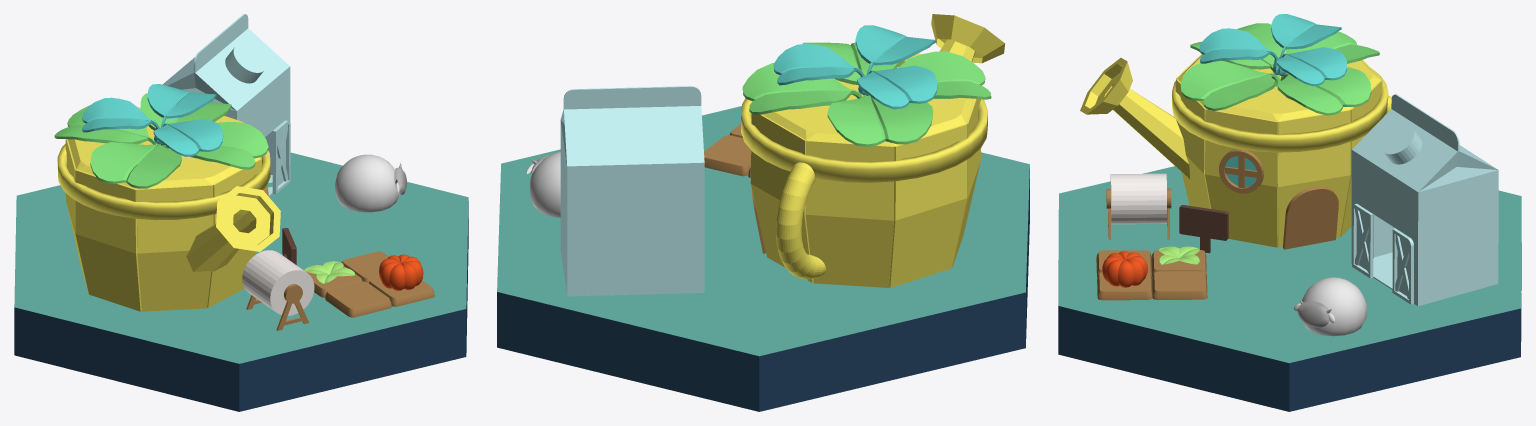
Rendered from Macro - farm barn lv2 WM2.fbx.
The picture shows the model from 3 angles, left to right: view 1: azimuth 30°, elevation 25°; view 2: azimuth 150°, elevation 25°; view 3: azimuth 270°, elevation 25°; orthographic projection. The views are drawn at different scales.
Visible parts, largest first — view 1: Cylinder.154, Cube.020, Milk_Carton_packet.001, Cube.019, Cube.047, Plane.009, Cube.046, Sphere.011, Cylinder, Plane.014, Plane.015, Plane.016 (+7 smaller); view 2: Cylinder.154, Milk_Carton_packet.001, Cube.020, Cube.047, Plane.005, Cube.005, Plane.020, Plane.016, Plane.009, Plane.010, Plane.015, Cube.046 (+4 smaller); view 3: Cylinder.154, Milk_Carton_packet.001, Cube.020, Cube.047, Cube.019, Plane.014, Cube.033, Cylinder, Cube.045, Plane.020, Sphere.011, Plane.010 (+11 smaller).
Boxes of the visible parts, bbox=[...] form: Cylinder.154: bbox=[14, 152, 468, 411]; Cube.020: bbox=[65, 107, 262, 311]; Milk_Carton_packet.001: bbox=[163, 14, 290, 196]; Cube.019: bbox=[303, 251, 434, 317]; Cube.047: bbox=[57, 144, 270, 220]; Plane.009: bbox=[90, 142, 181, 188]; Cube.046: bbox=[216, 186, 280, 251]; Sphere.011: bbox=[335, 154, 398, 212]; Cylinder: bbox=[242, 250, 314, 315]; Plane.014: bbox=[165, 122, 268, 169]; Plane.015: bbox=[153, 119, 223, 156]; Plane.016: bbox=[82, 97, 159, 143]; Cylinder.154: bbox=[497, 106, 1029, 411]; Milk_Carton_packet.001: bbox=[560, 86, 704, 296]; Cube.020: bbox=[750, 53, 980, 287]; Cube.047: bbox=[741, 98, 987, 182]; Plane.005: bbox=[827, 94, 933, 146]; Cube.005: bbox=[776, 162, 825, 279]; Plane.020: bbox=[742, 63, 862, 114]; Plane.016: bbox=[857, 65, 937, 109]; Plane.009: bbox=[898, 51, 991, 99]; Plane.010: bbox=[773, 44, 864, 94]; Plane.015: bbox=[855, 25, 936, 74]; Cube.046: bbox=[931, 14, 1005, 63]; Cylinder.154: bbox=[1058, 166, 1521, 411]; Milk_Carton_packet.001: bbox=[1351, 94, 1498, 306]; Cube.020: bbox=[1175, 54, 1382, 247]; Cube.047: bbox=[1172, 68, 1388, 152]; Cube.019: bbox=[1096, 250, 1207, 300]; Plane.014: bbox=[1180, 61, 1279, 110]; Cube.033: bbox=[1283, 186, 1338, 249]; Cylinder: bbox=[1110, 173, 1166, 224]; Cube.045: bbox=[1113, 89, 1190, 179]; Plane.020: bbox=[1277, 67, 1371, 115]; Sphere.011: bbox=[1302, 277, 1366, 336]; Plane.010: bbox=[1276, 47, 1346, 86].
Bounding box in the file's own units: 197 × 88.37 × 172.
